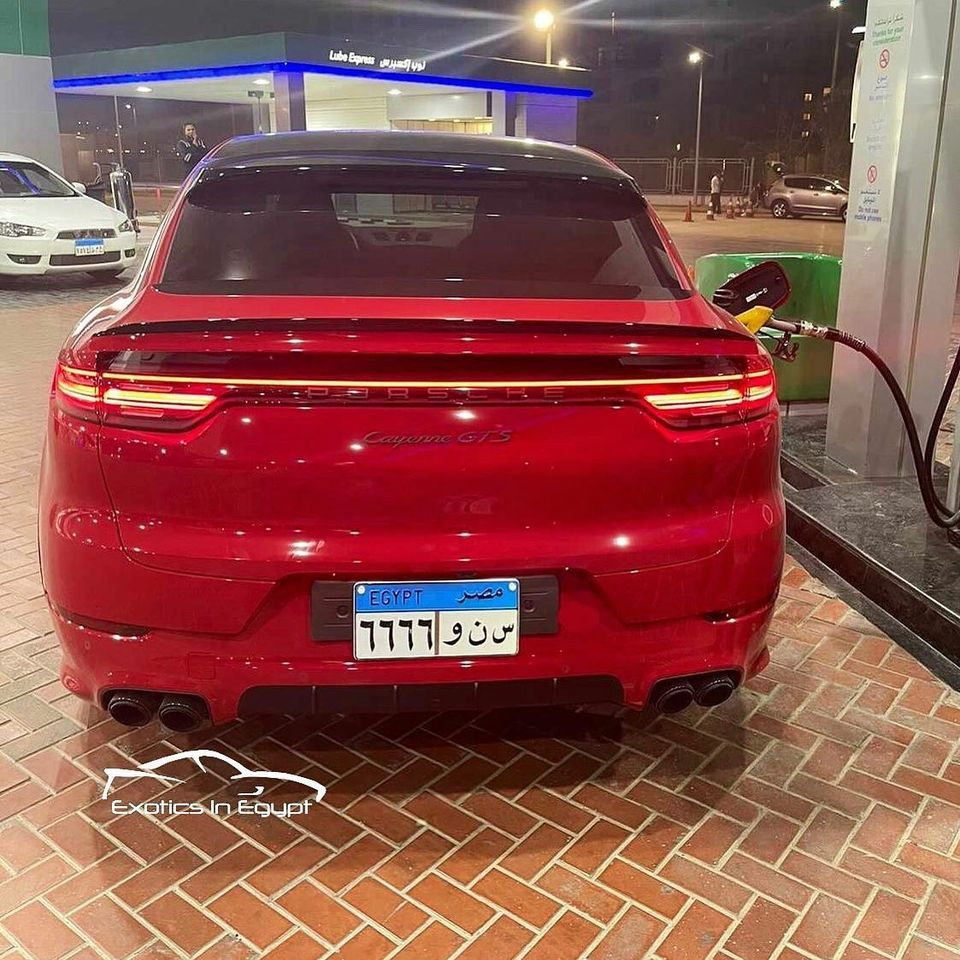carpl: (346, 575, 525, 659)
